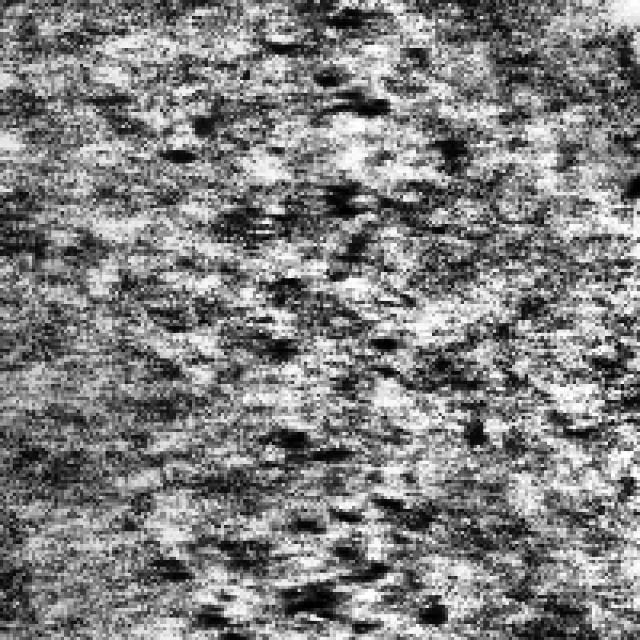Crazing: (124, 419, 438, 634), (256, 0, 397, 291)
